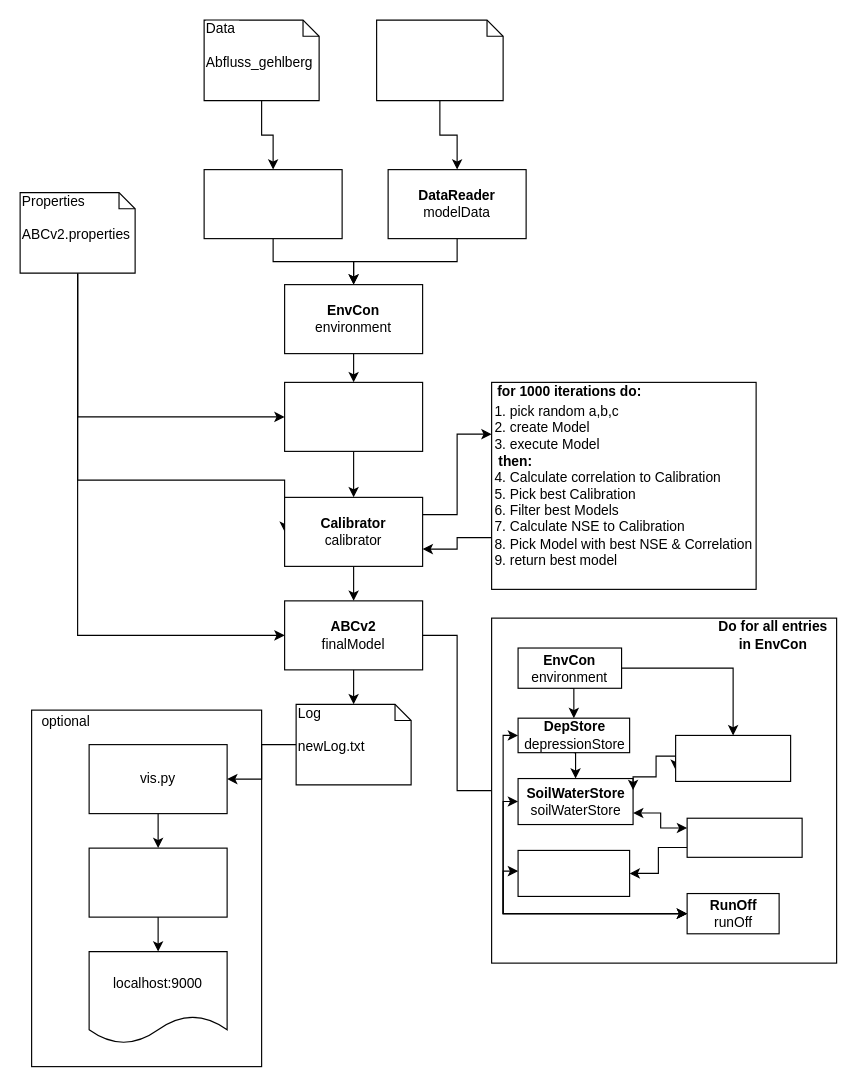
Some shapes in this 857 by 1087 pixel diagram are drawn without their labels. The shapes that lost their labels are listed below. From the top down, each one's centre as x and y in pixels, then its label:
At (439,60): "Data Klima_schmuecke".
At (272,203): "DataReader calibrationData".
At (353,416): "ABCv2 calibrationModel".
At (732,757): "Evaporation evaporation".
At (744,837): "Infiltration infiltration".
At (157,882): "myHttp.py".
At (573,872): "BaseStore baseStore".
